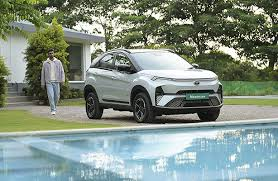Tata Nexon: (83, 46, 224, 123)
